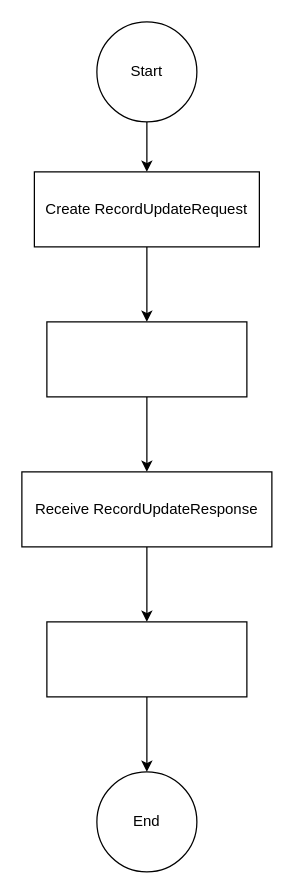
Some shapes in this 294 by 894 pixel diagram are drawn without their labels. Here are the shapes that lost their labels. From the top down, the box of each, then its label:
(46, 321, 247, 397): Send Request to PHP IPAM
(46, 621, 247, 697): Update Record Info
